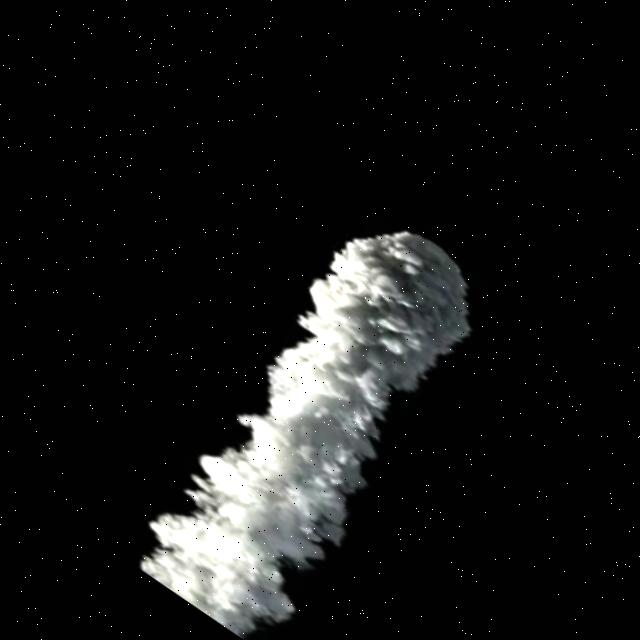Smoke: (80, 155, 532, 640)
